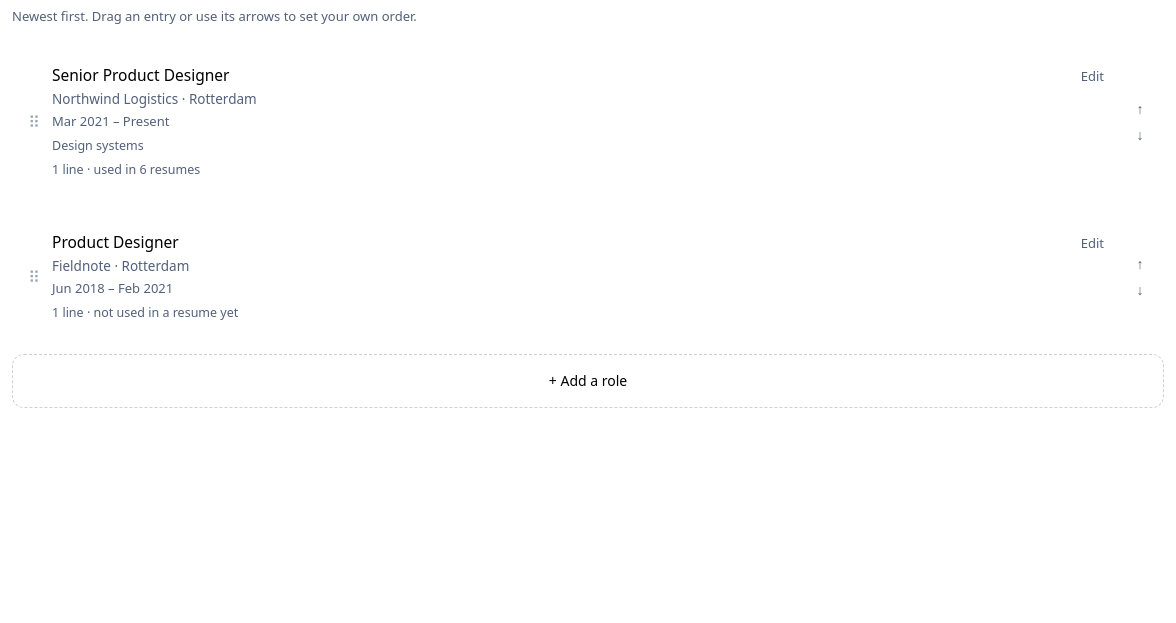
Test: ExperienceSection's usage and empty roles (E33-2) › says how many resumes use each role: on the closed card with its lines, and on the open one's header
Expected: the button "Product Designer" shows "1 line · not used in a resume yet", [40,211,1128,342]
Click the button "Senior Product Designer". click: (584, 122)
box: [40,44,1128,199]
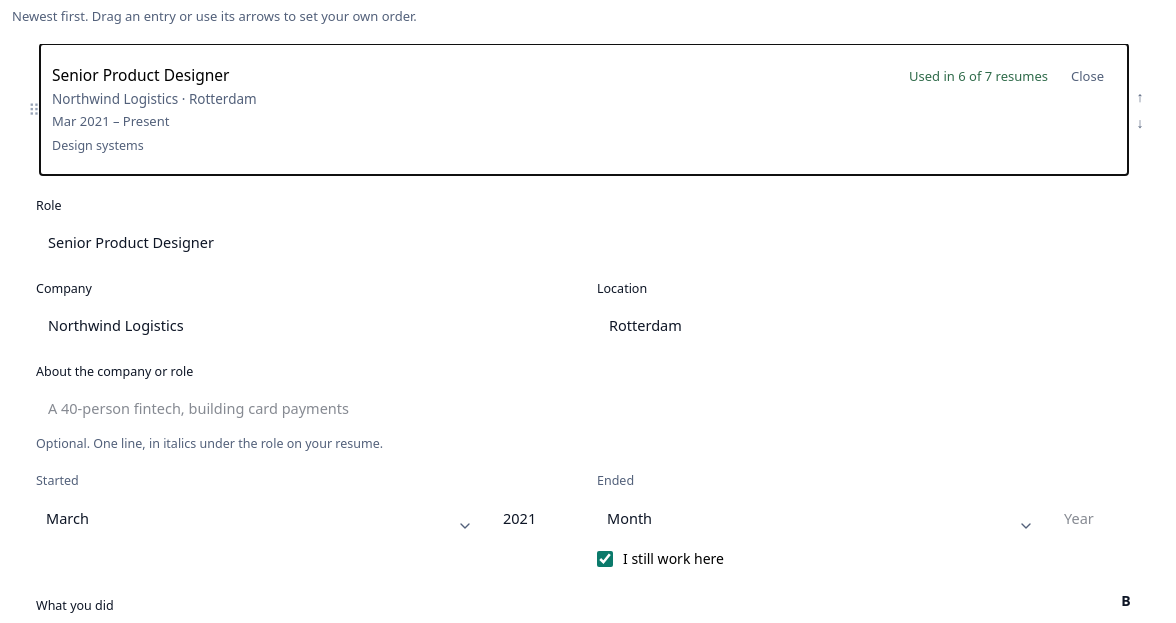
Expected: the button "Senior Product Designer" shows "Used in 6 of 7 resumes", [40,44,1128,175]
